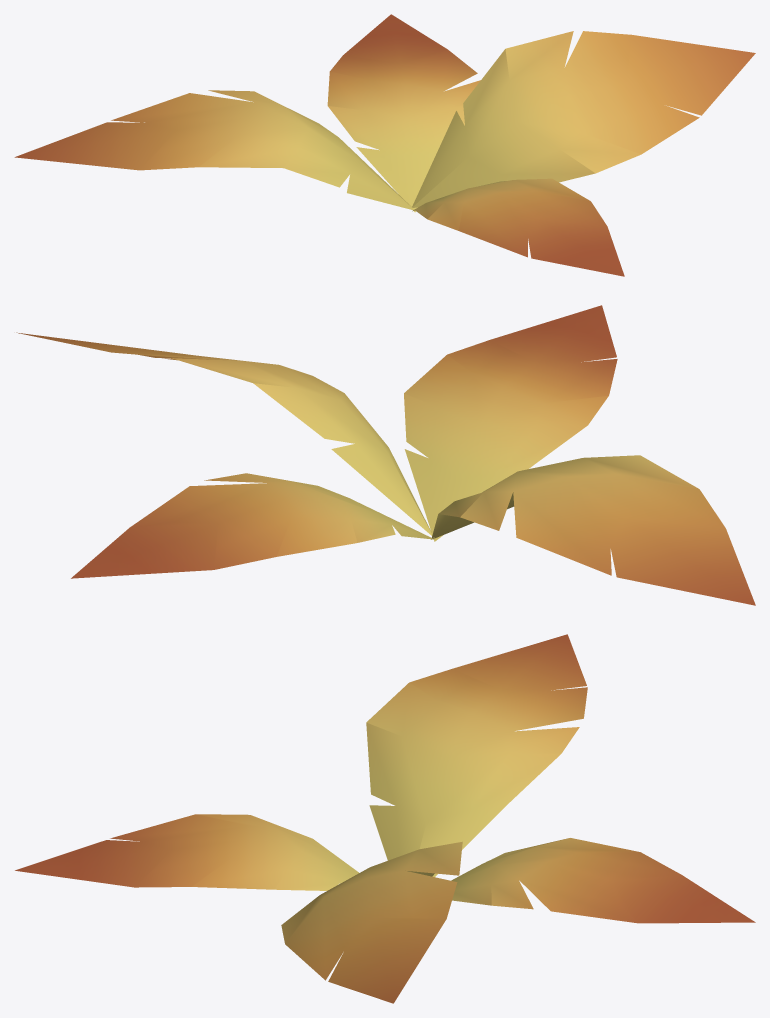
File: Grass_3.fbx
3 views of the same model, one above another, from view 1: azimuth 30°, elevation 25°; view 2: azimuth 150°, elevation 25°; view 3: azimuth 270°, elevation 25° (orthographic). The views are drawn at different scales.
Parts seen in each view (by area): view 1: Grass_1.002; view 2: Grass_1.002; view 3: Grass_1.002.
Part boxes in pixels (<box>): Grass_1.002: <box>14,14,755,276</box>; Grass_1.002: <box>16,305,755,605</box>; Grass_1.002: <box>15,634,755,1003</box>.
Size of the model in its own units: 0.6488 by 0.5533 by 0.1099.
